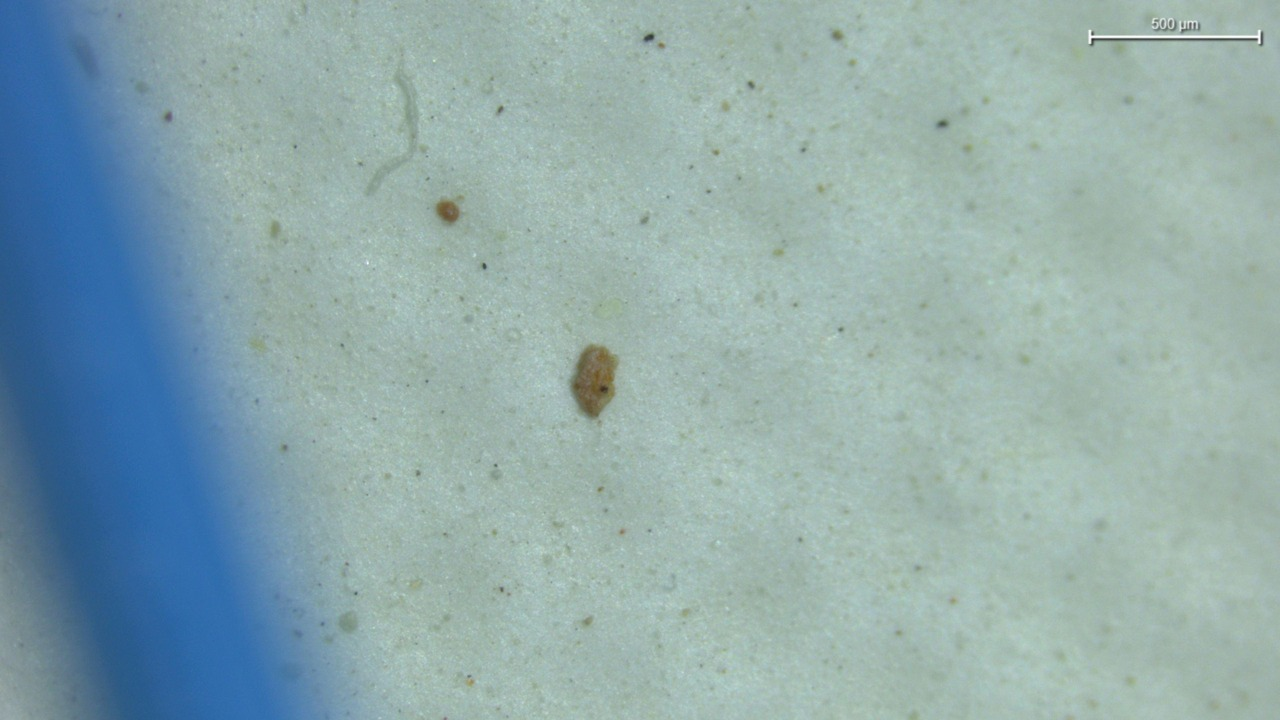microplastic_fragment: (572, 344, 618, 417)
